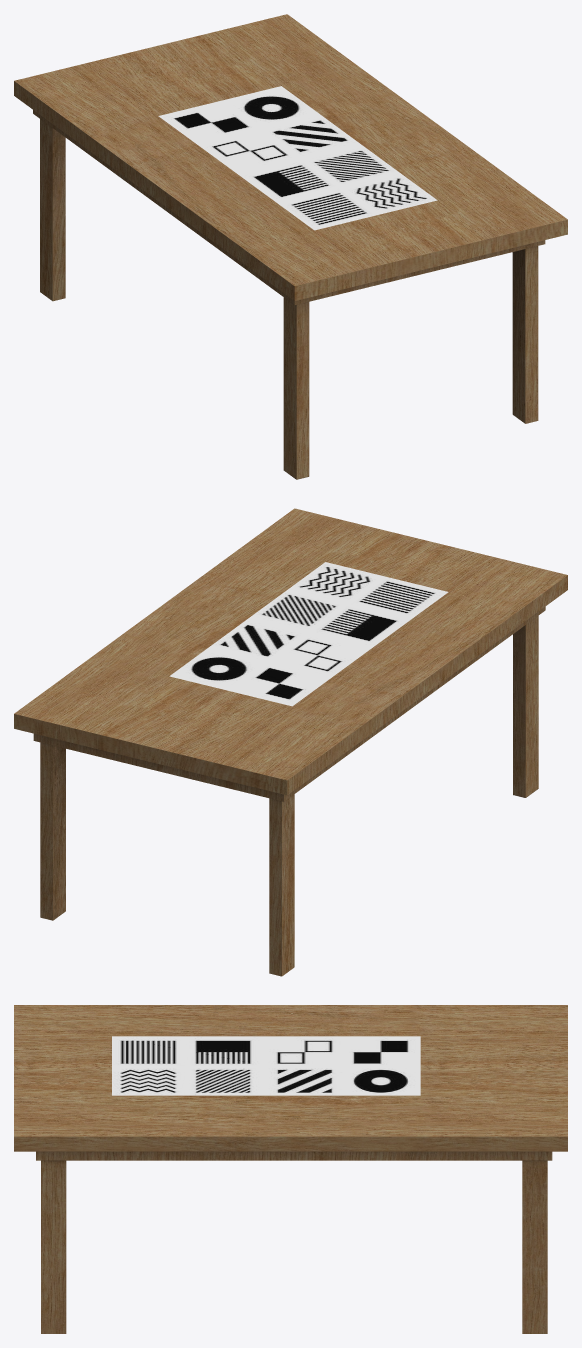
File: table-shapes-2.glb
3 views of the same model, one above another, from view 1: azimuth 30°, elevation 25°; view 2: azimuth 150°, elevation 25°; view 3: azimuth 270°, elevation 25° (orthographic).
Parts seen in each view (by area): view 1: skppH0rwK1, Model; view 2: skppH0rwK1, Model; view 3: skppH0rwK1, Model.
Part boxes in pixels (<box>): skppH0rwK1: <box>14,14,567,479</box>; Model: <box>158,86,437,230</box>; skppH0rwK1: <box>14,508,567,976</box>; Model: <box>169,562,448,706</box>; skppH0rwK1: <box>14,1005,567,1333</box>; Model: <box>112,1036,420,1095</box>.
Bounding box in the file's own units: 22.14 × 16.24 × 39.37.
Materials: 2 (2 with a texture image).
